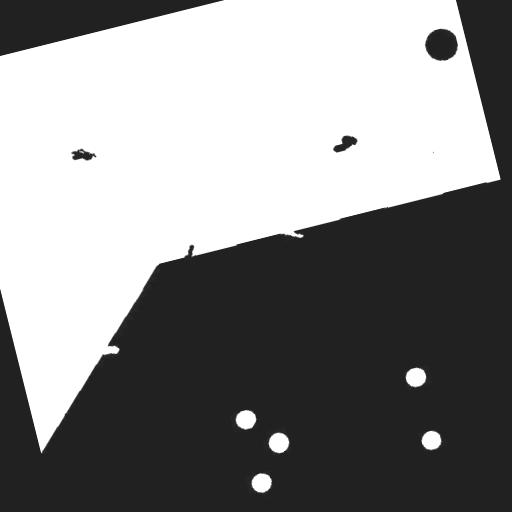copper: (320, 124, 368, 162), (61, 136, 106, 173)
mousebite: (274, 219, 312, 250), (90, 335, 128, 366)
pin-hole: (258, 422, 300, 464)
spur: (172, 234, 206, 268)
